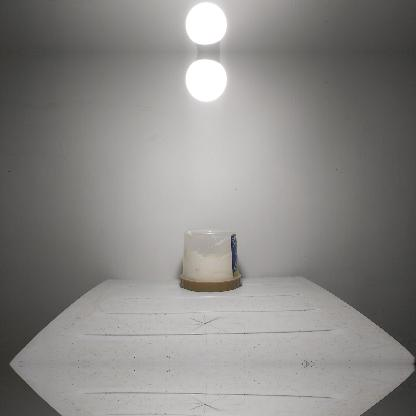Lady-s-Choice: (180, 227, 240, 291)
